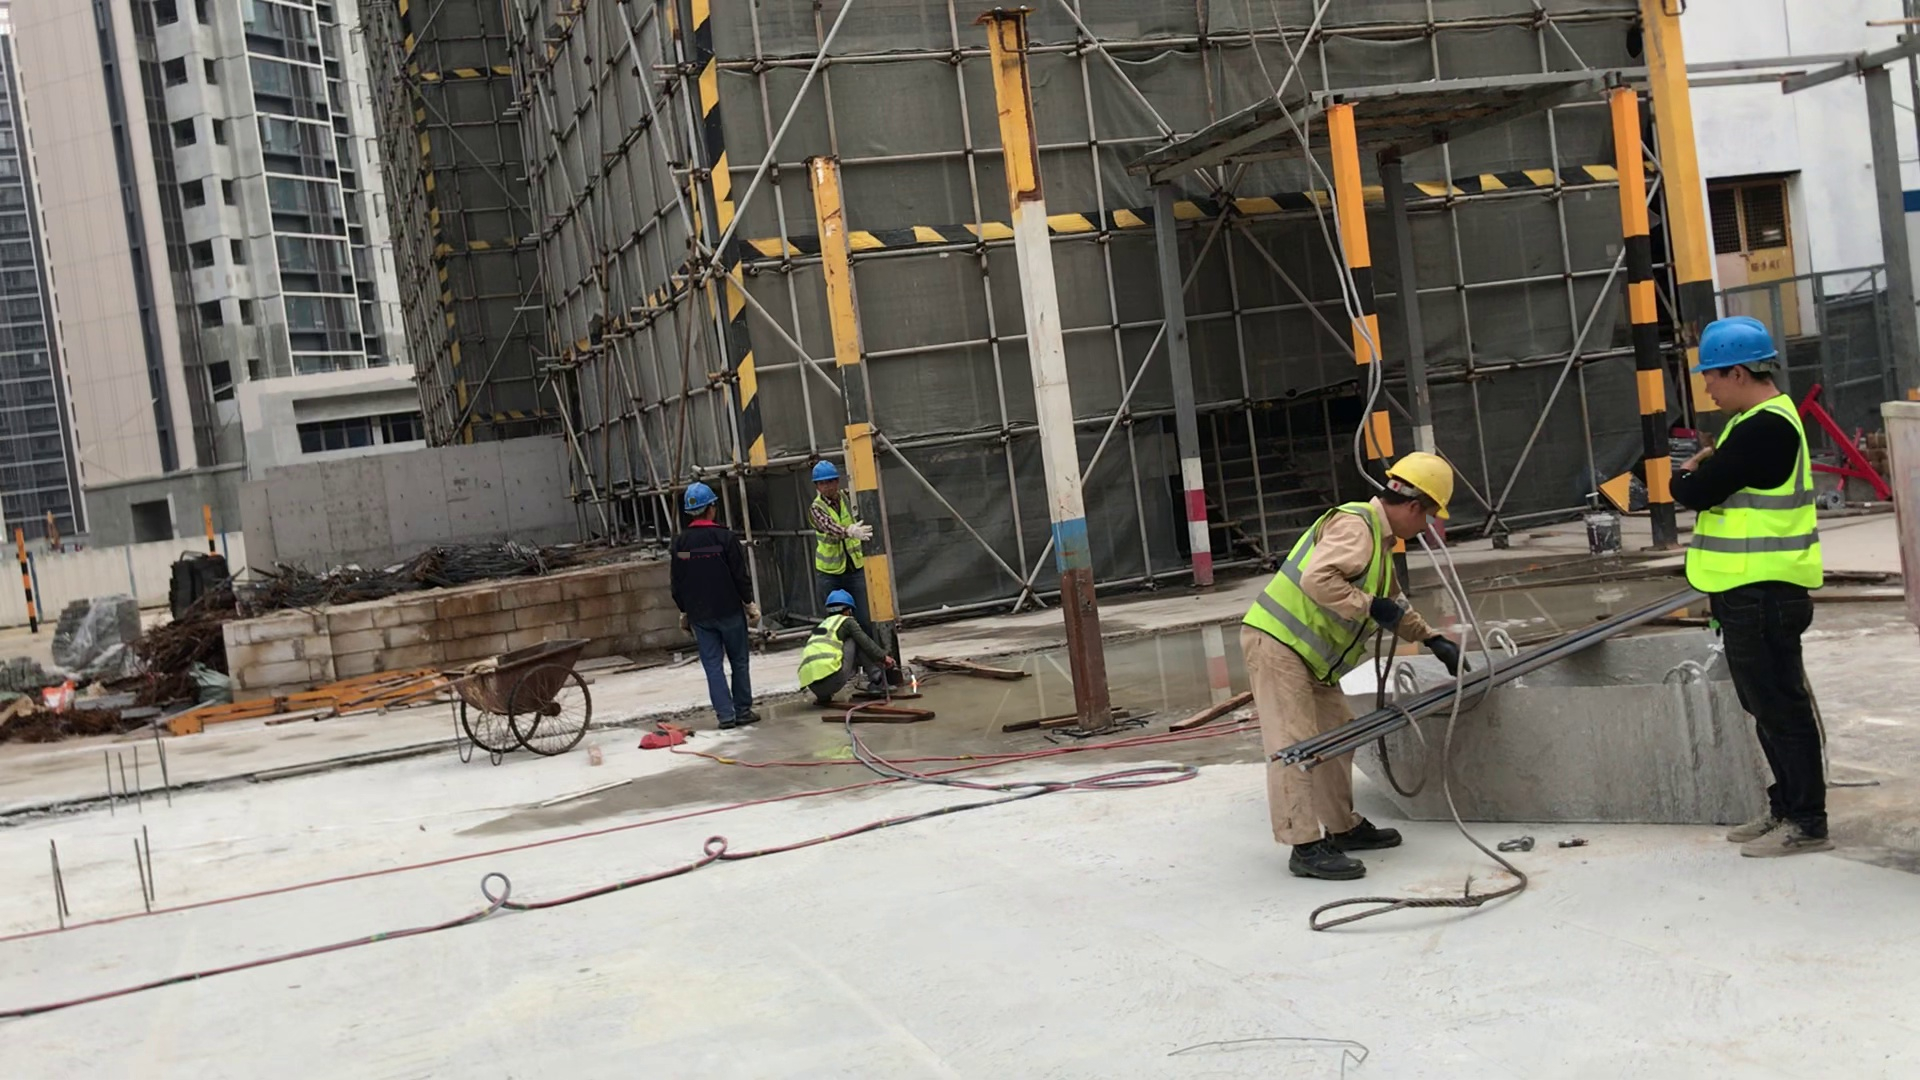handcart: (414, 624, 625, 757)
helmet: (1685, 310, 1798, 383), (1381, 439, 1458, 530), (673, 472, 727, 516), (806, 453, 851, 499), (825, 585, 873, 622)
hopper: (1311, 616, 1813, 839)
person: (1236, 415, 1466, 903), (1665, 312, 1869, 865), (655, 473, 773, 746), (793, 591, 913, 726), (797, 450, 894, 606)
rebar: (1271, 642, 1572, 778)
vest: (1668, 387, 1839, 608), (1236, 497, 1406, 696), (795, 607, 863, 714), (806, 496, 875, 578)
